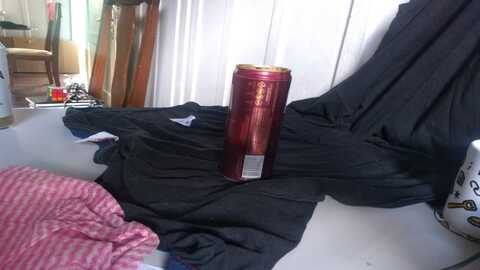duplo_malte: (223, 66, 291, 185)
